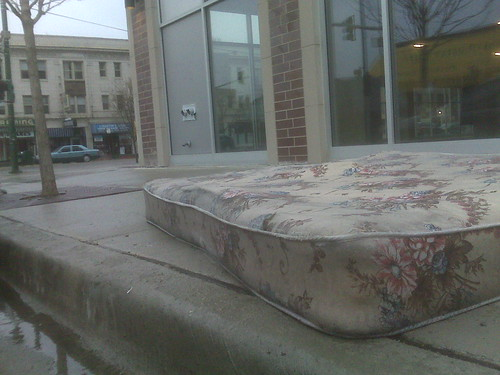building: (141, 1, 500, 164), (1, 38, 127, 158)
car: (42, 141, 105, 165)
mattress: (127, 146, 500, 326)
sidewalk: (6, 174, 488, 375)
